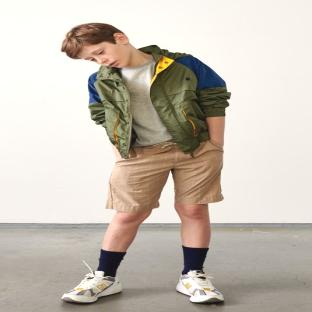Human: (61, 23, 230, 302)
